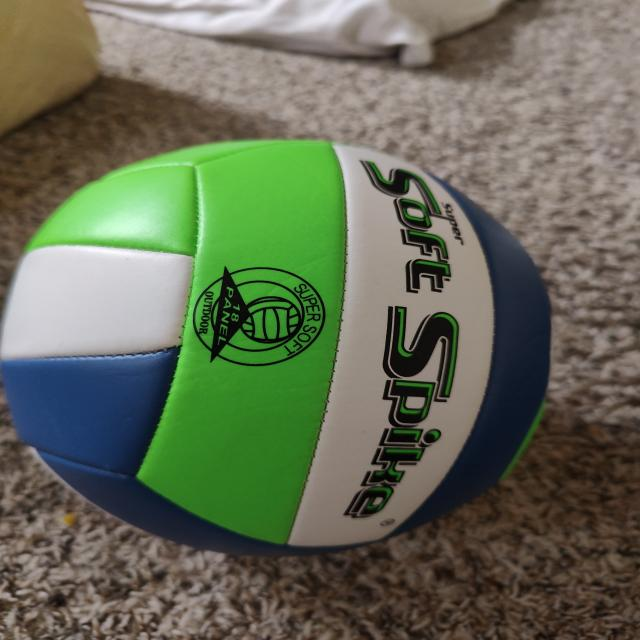ball: (2, 140, 556, 550)
